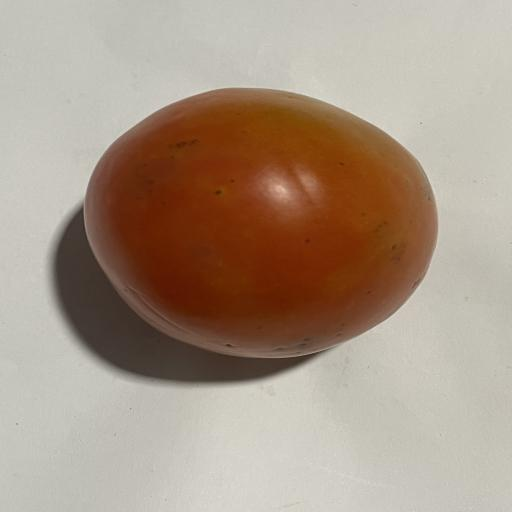ripe: (84, 88, 437, 358)
